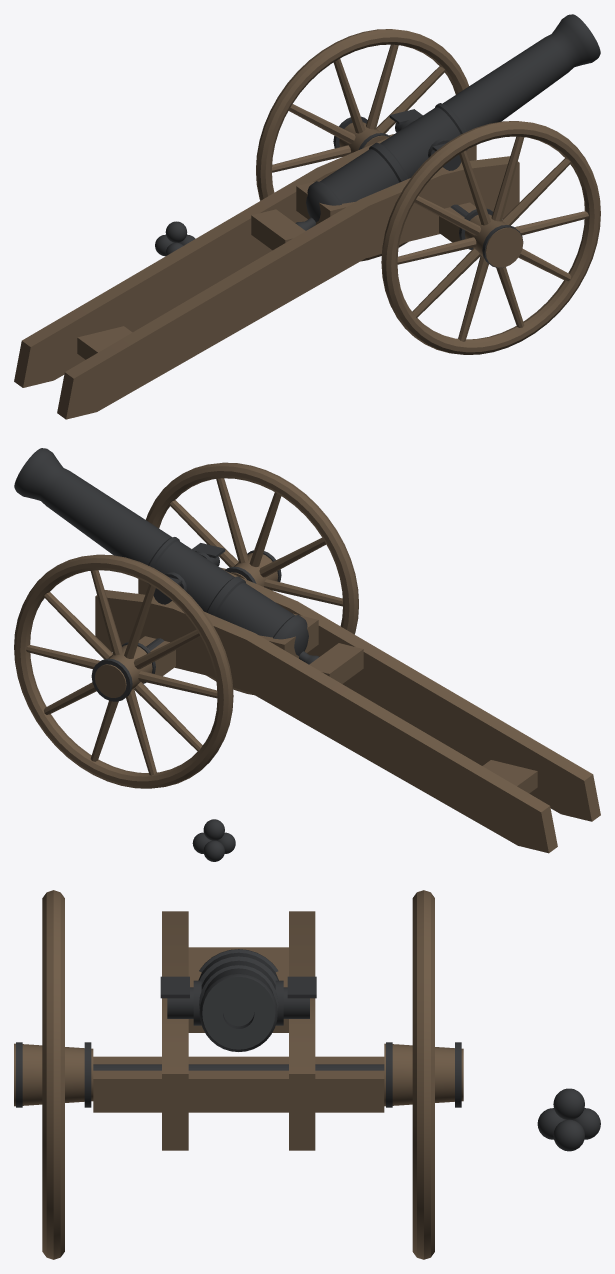
The model's file is cannon.glb.
The picture shows the model from 3 angles, top to bottom: view 1: azimuth 30°, elevation 25°; view 2: azimuth 150°, elevation 25°; view 3: azimuth 270°, elevation 25°; orthographic projection. The views are drawn at different scales.
Parts seen in each view (by area): view 1: Carriage, Wheel_R, Barrel, Wheel_L; view 2: Carriage, Wheel_L, Barrel, Wheel_R; view 3: Carriage, Wheel_R, Wheel_L, Barrel, Cannonball_1, Cannonball_4, Cannonball_3, Cannonball_2.
Part boxes in pixels (<box>): Carriage: <box>14,109,519,419</box>; Wheel_R: <box>381,121,600,354</box>; Barrel: <box>295,14,600,230</box>; Wheel_L: <box>256,29,468,261</box>; Carriage: <box>95,543,600,853</box>; Wheel_L: <box>14,554,233,788</box>; Barrel: <box>14,448,319,664</box>; Wheel_R: <box>146,462,358,695</box>; Carriage: <box>93,911,384,1150</box>; Wheel_R: <box>14,890,93,1259</box>; Wheel_L: <box>384,890,463,1259</box>; Barrel: <box>167,949,309,1051</box>; Cannonball_1: <box>553,1119,584,1151</box>; Cannonball_4: <box>553,1088,584,1119</box>; Cannonball_3: <box>537,1108,565,1139</box>; Cannonball_2: <box>572,1108,600,1139</box>.
Bounding box in the file's own units: 3.57 × 1.56 × 2.22.
